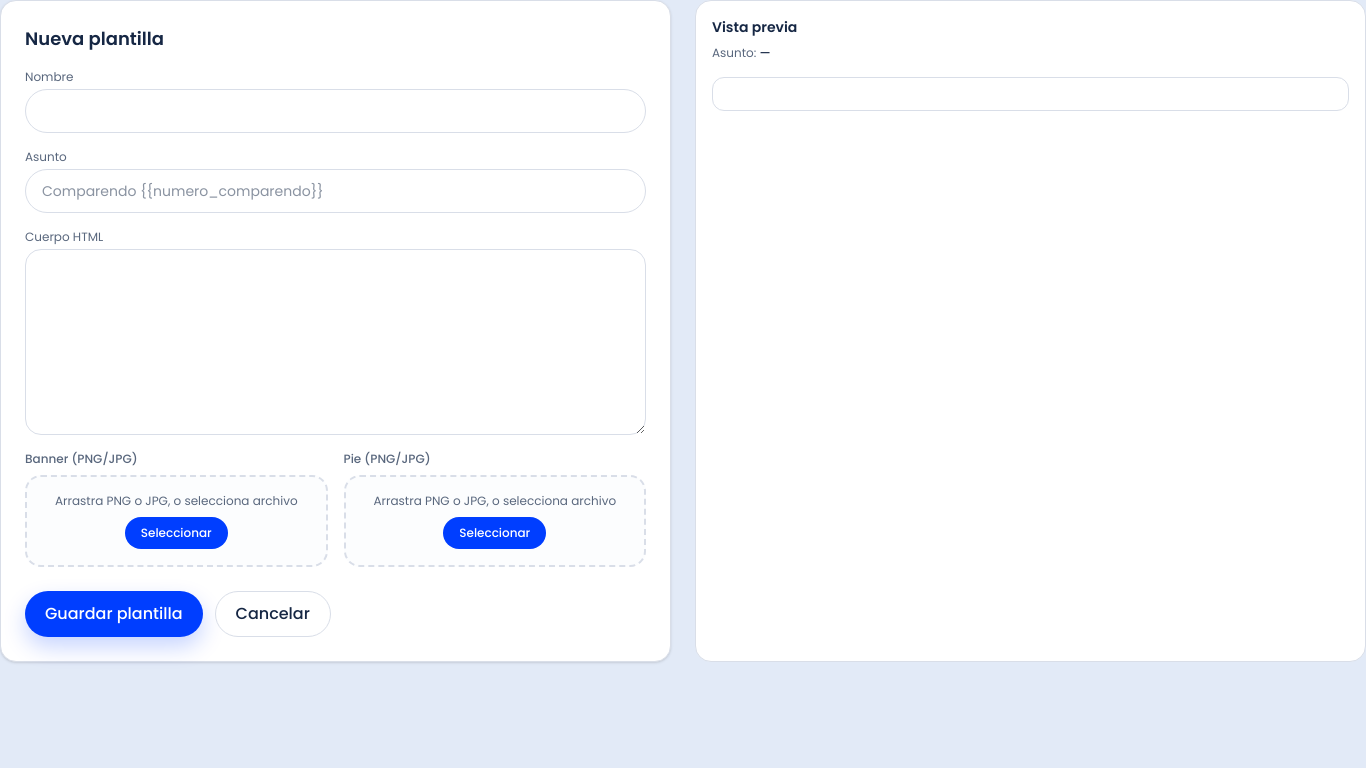
Test case: TemplateEditor › muestra validación inline al guardar sin cuerpo
Type "T1" into the field labelled "Nombre" at x=336, y=111, box [25,89,646,133]
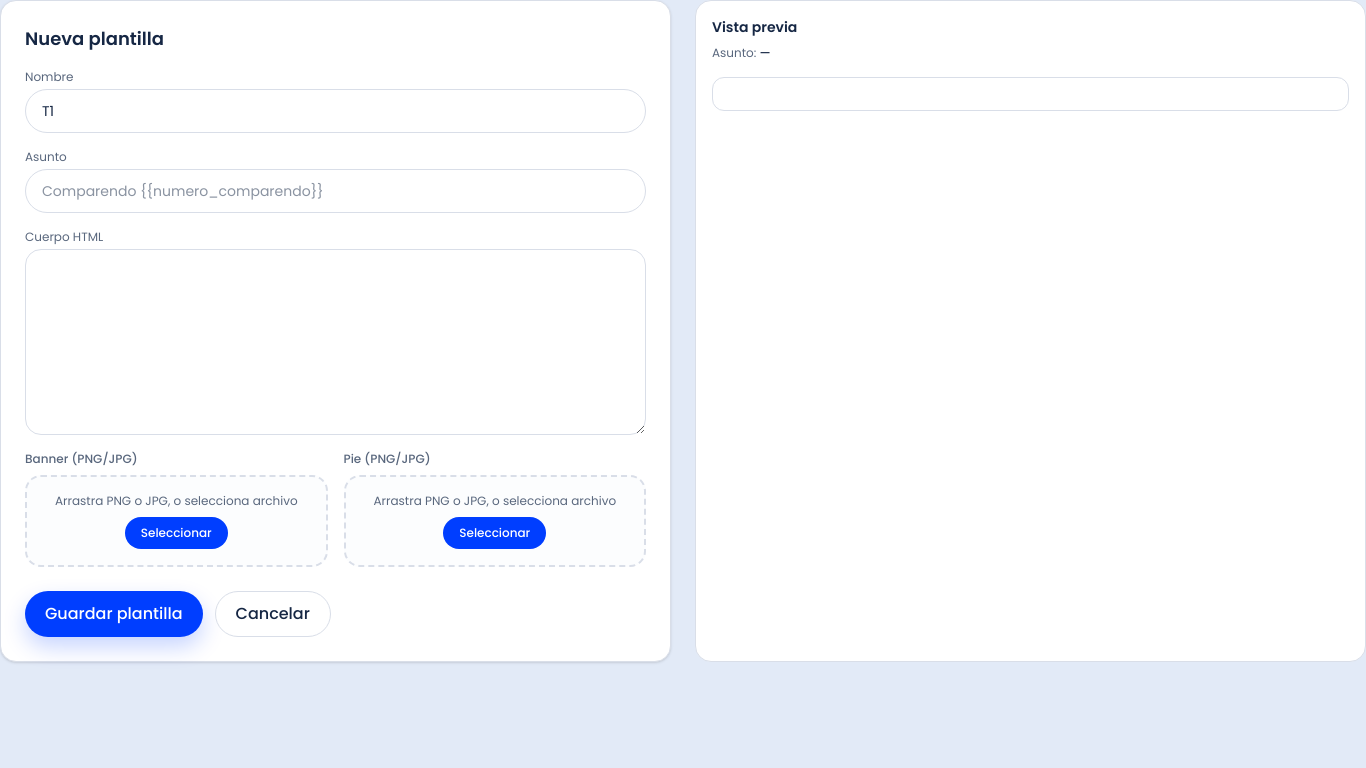
Type "Asunto" into the field labelled "Asunto" at x=336, y=191, box [25,169,646,213]
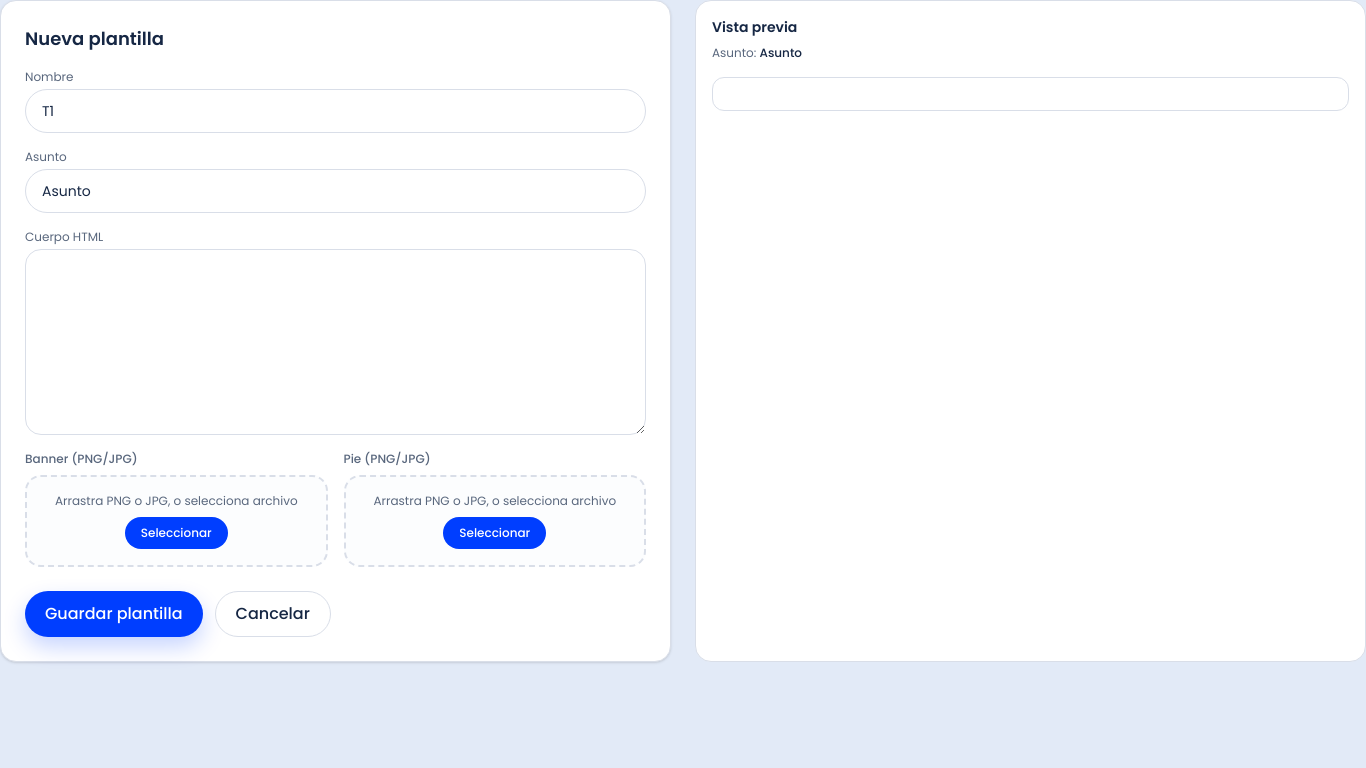
Click the button with test id "template-save-btn" at x=114, y=614, box [25,591,202,637]
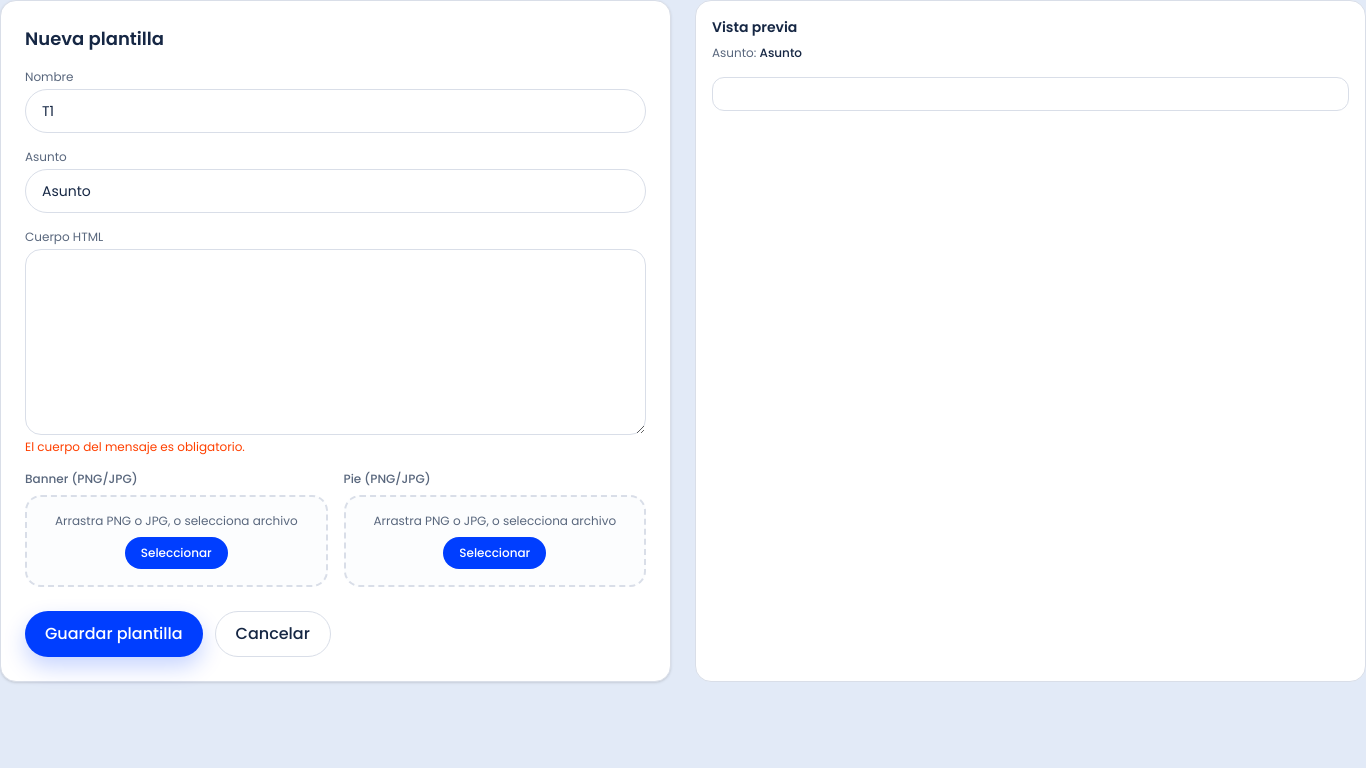
Expected: the text "El cuerpo del mensaje es obligatorio." is shown, [25,438,245,455]
